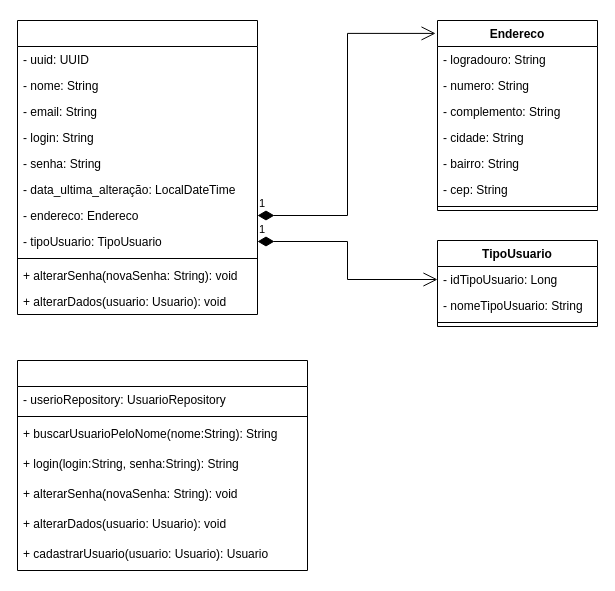
Image size: 615x591. Some labels were removed from this diagram. The box of each missing label's shape, as (x1, y1, x2, y2) in pixels:
UsuarioServico: (16, 360, 308, 570)
Usuário: (16, 20, 258, 314)
